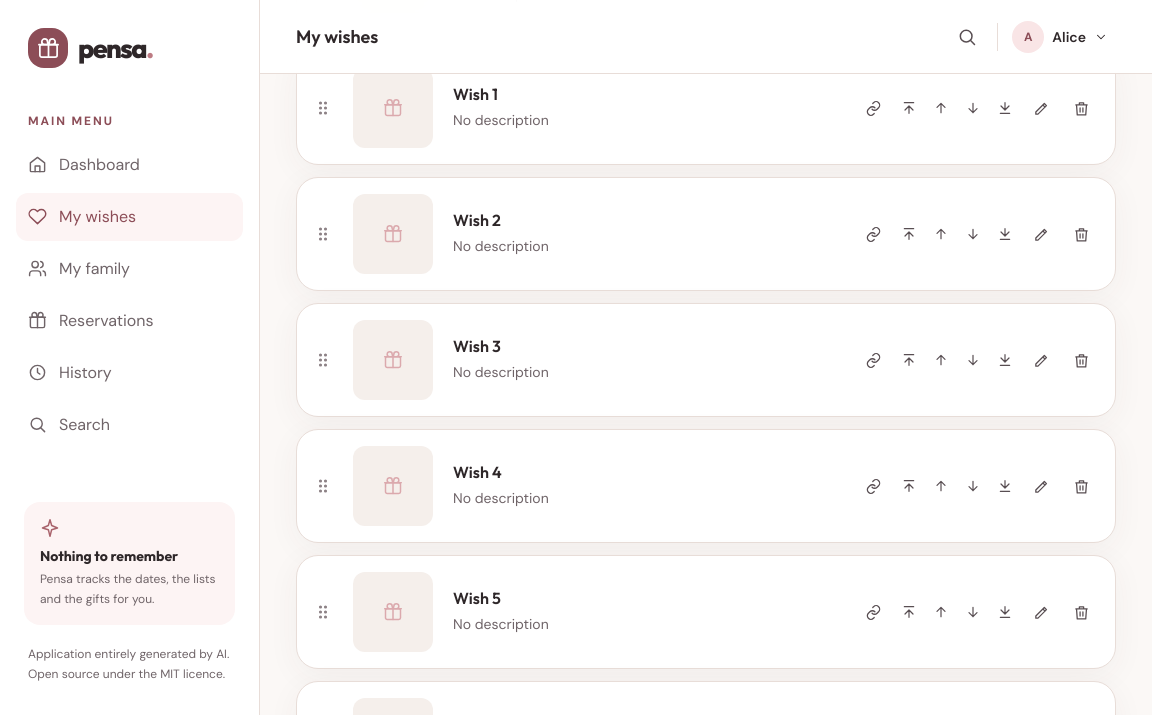
Test case: moves a wish to the top or bottom with one PATCH on /wishes
The image size is (1152, 715).
(page scrolled)
Click the button named "Move Wish 3 to the top" at [909, 360], box [895,346,923,374]
(page scrolled)
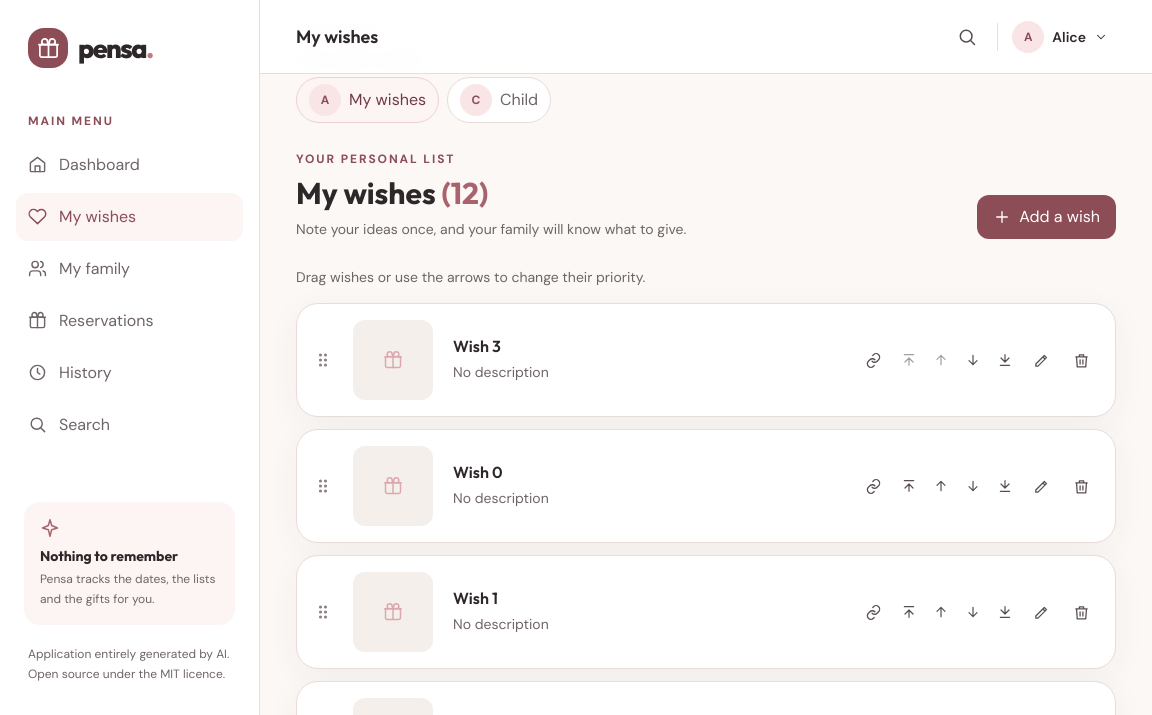
Click the button named "Move Wish 1 to the bottom" at [1005, 612], box [991,598,1019,626]
Wait 500 ms
(page scrolled)
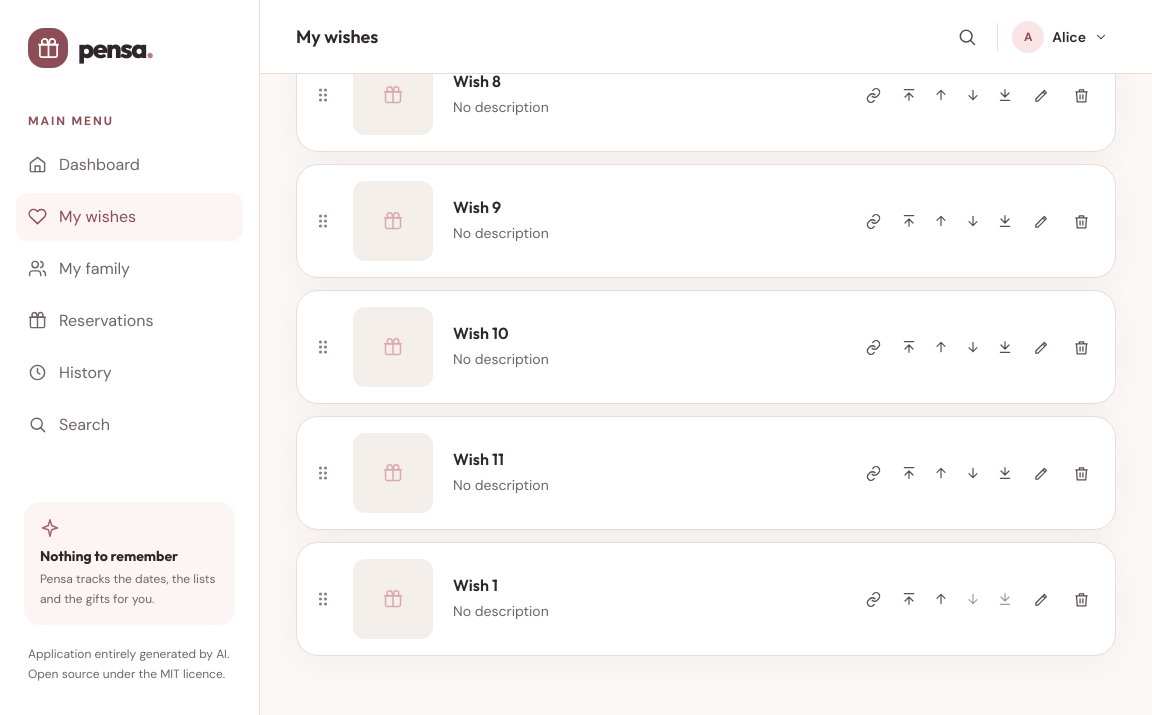
Expected: the button named "Move Wish 1 to the bottom" is disabled, [991,585,1019,613]
